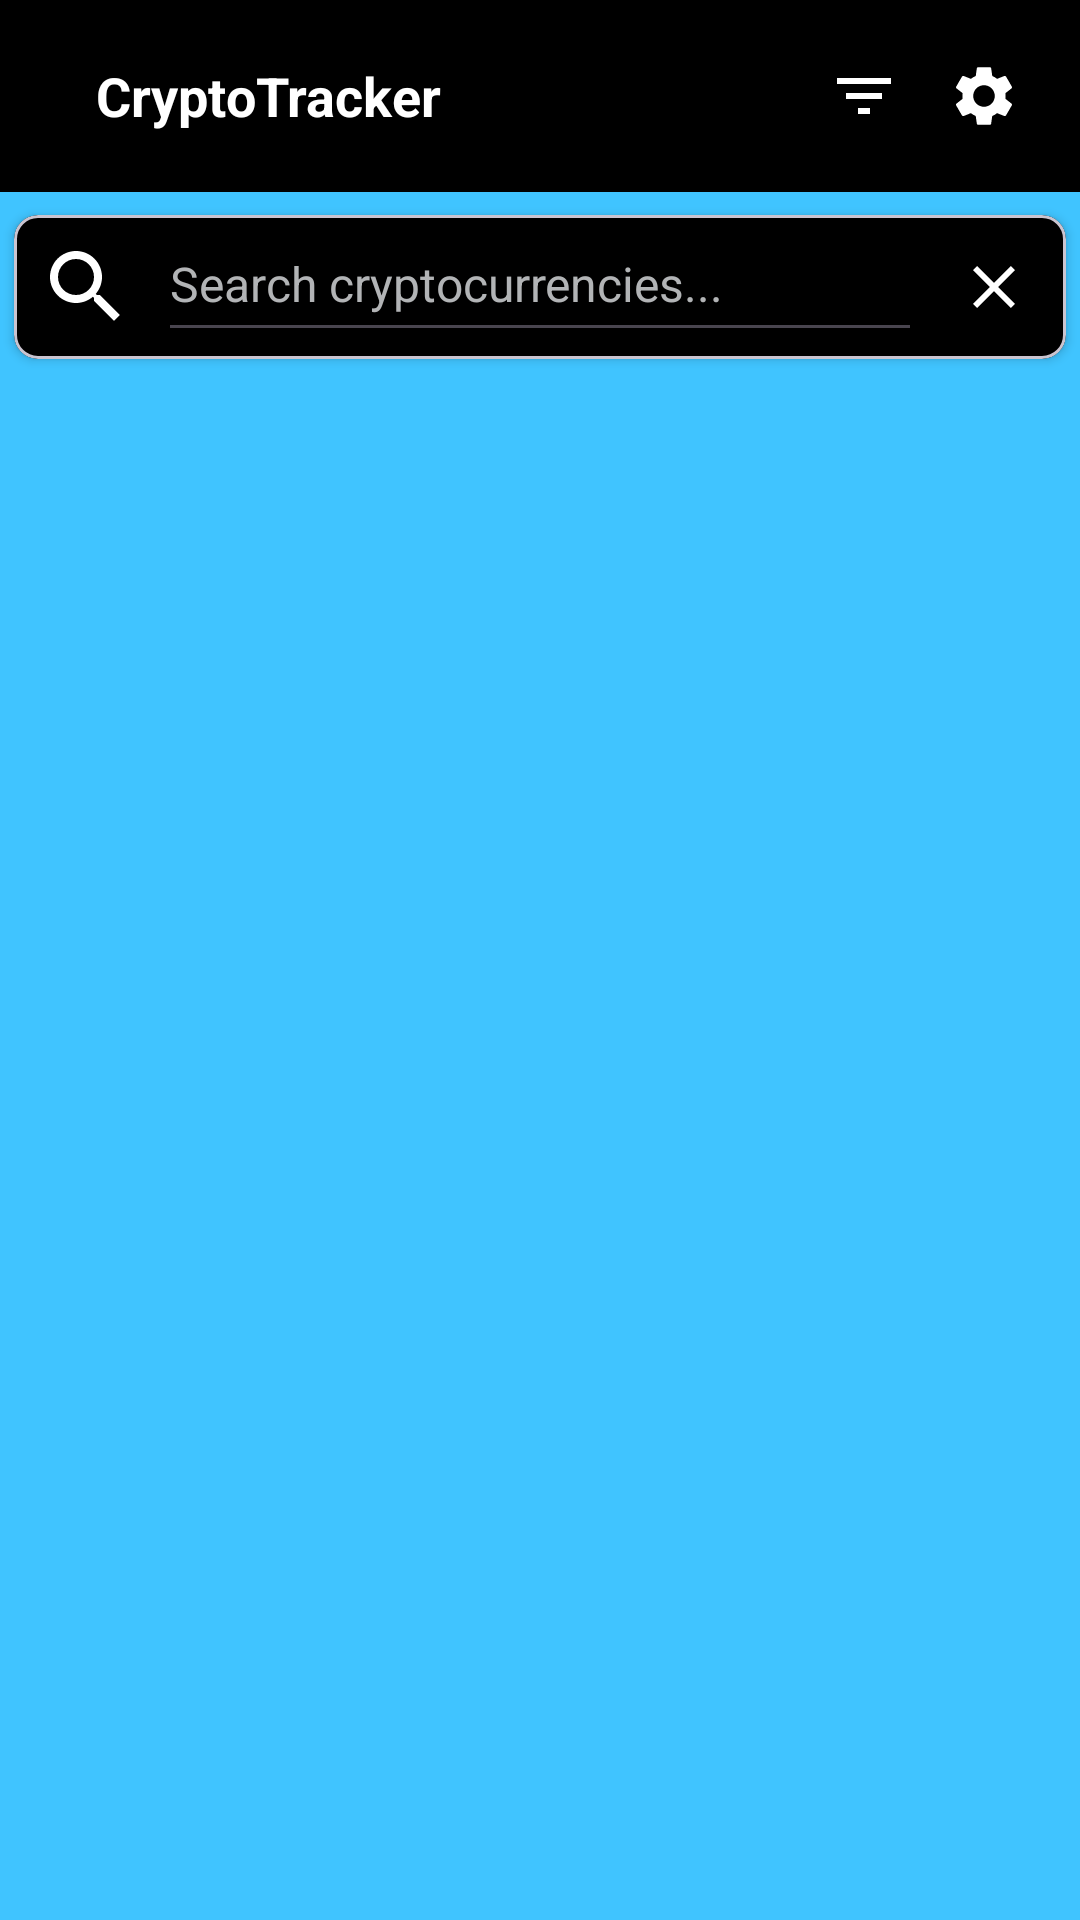

Named icons in this screenshot (1080×1920) and their bounding boxes, box=[x1, y1, x2, y2]:
close: box=[973, 266, 1015, 308]
filter list: box=[837, 78, 891, 114]
settings: box=[956, 67, 1012, 125]
